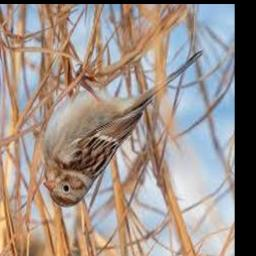Sparrow: (43, 49, 203, 208)
